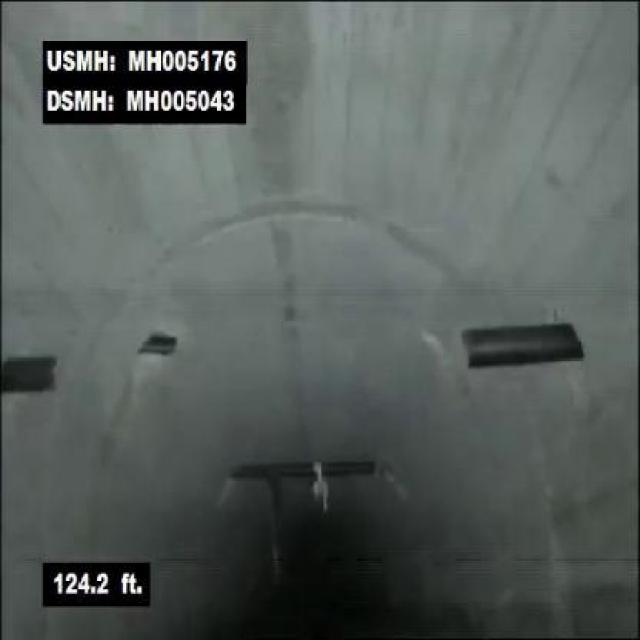Utility intrusion: (452, 314, 586, 377), (0, 342, 65, 403)
